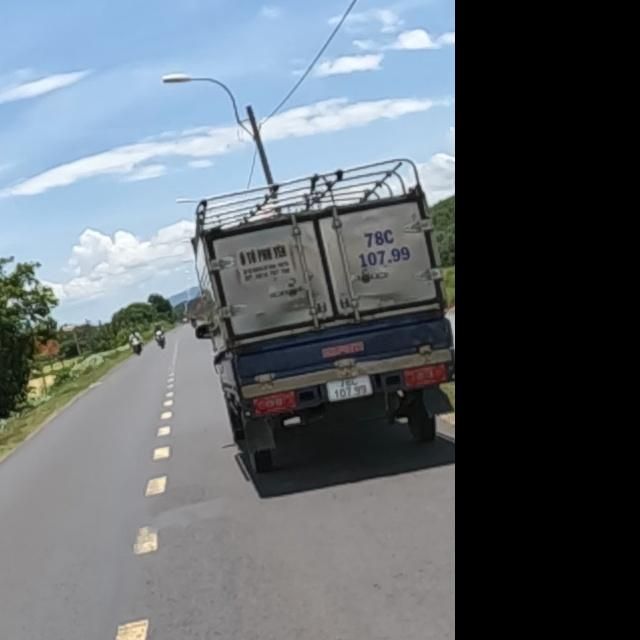license-plate: (326, 376, 373, 401)
